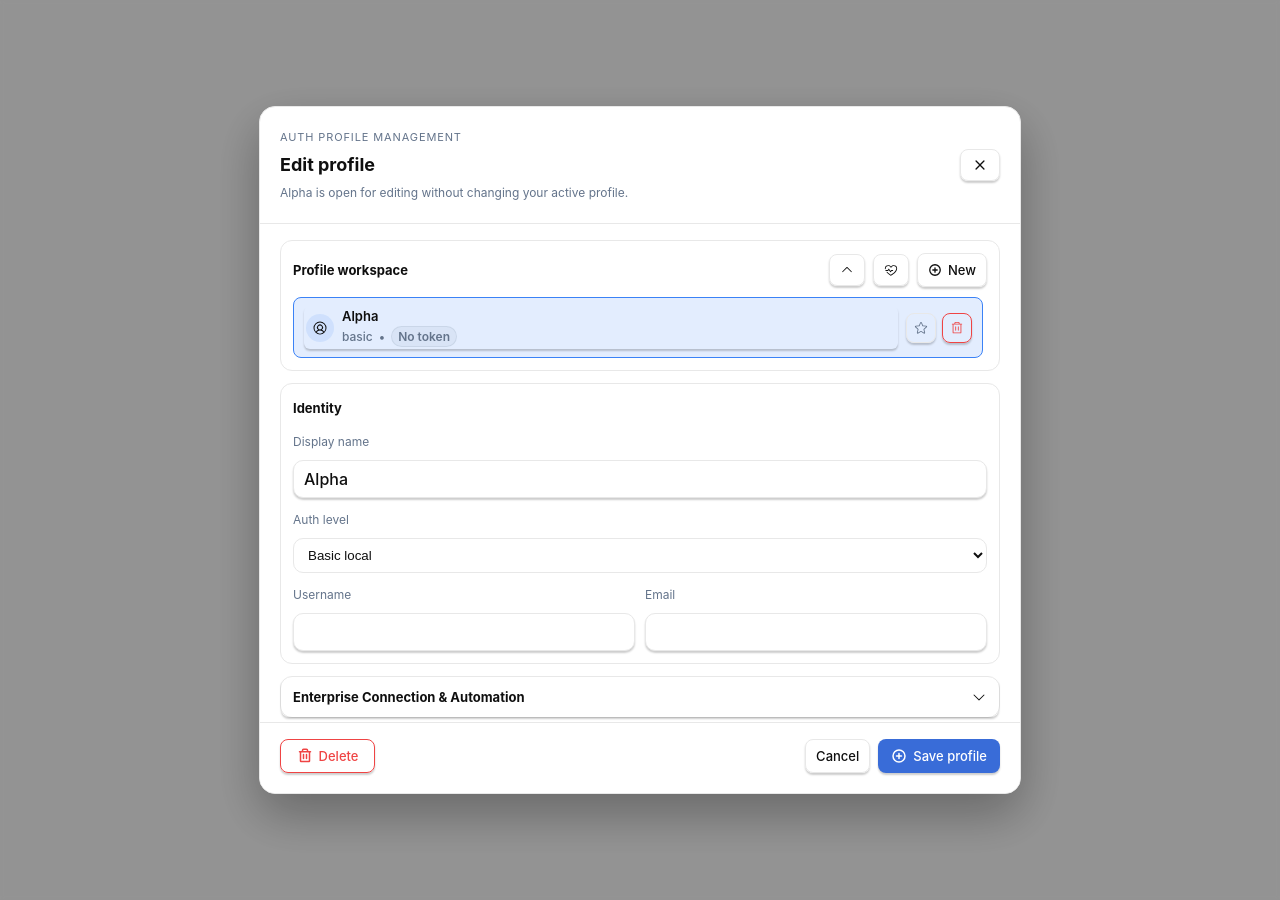
Scenario: ProfileManagementModal › clears the current selection and starts a blank draft when switching to create mode
Step 1. Click the button "New" → {"x": 952, "y": 270}, box [917, 253, 987, 287]
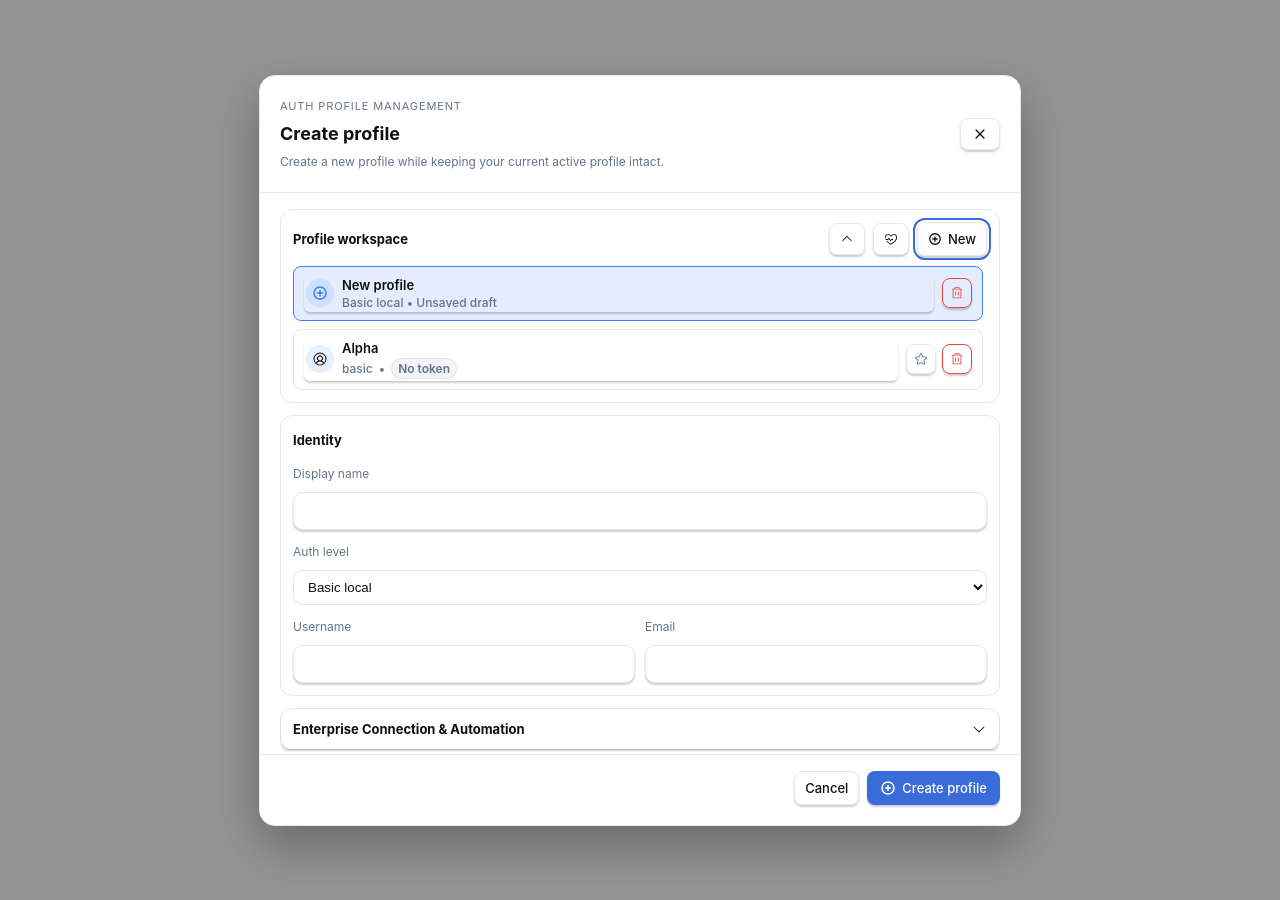
Check: the text "Basic local • Unsaved draft" is shown, box [342, 294, 497, 310]
Check: the button named "delete new profile draft" is shown, box [942, 278, 972, 308]
Check: the heading "Create profile" is shown, box [280, 122, 400, 144]
Step 2. Click the button titled "collapse profile workspace" → {"x": 847, "y": 238}, box [829, 222, 865, 254]
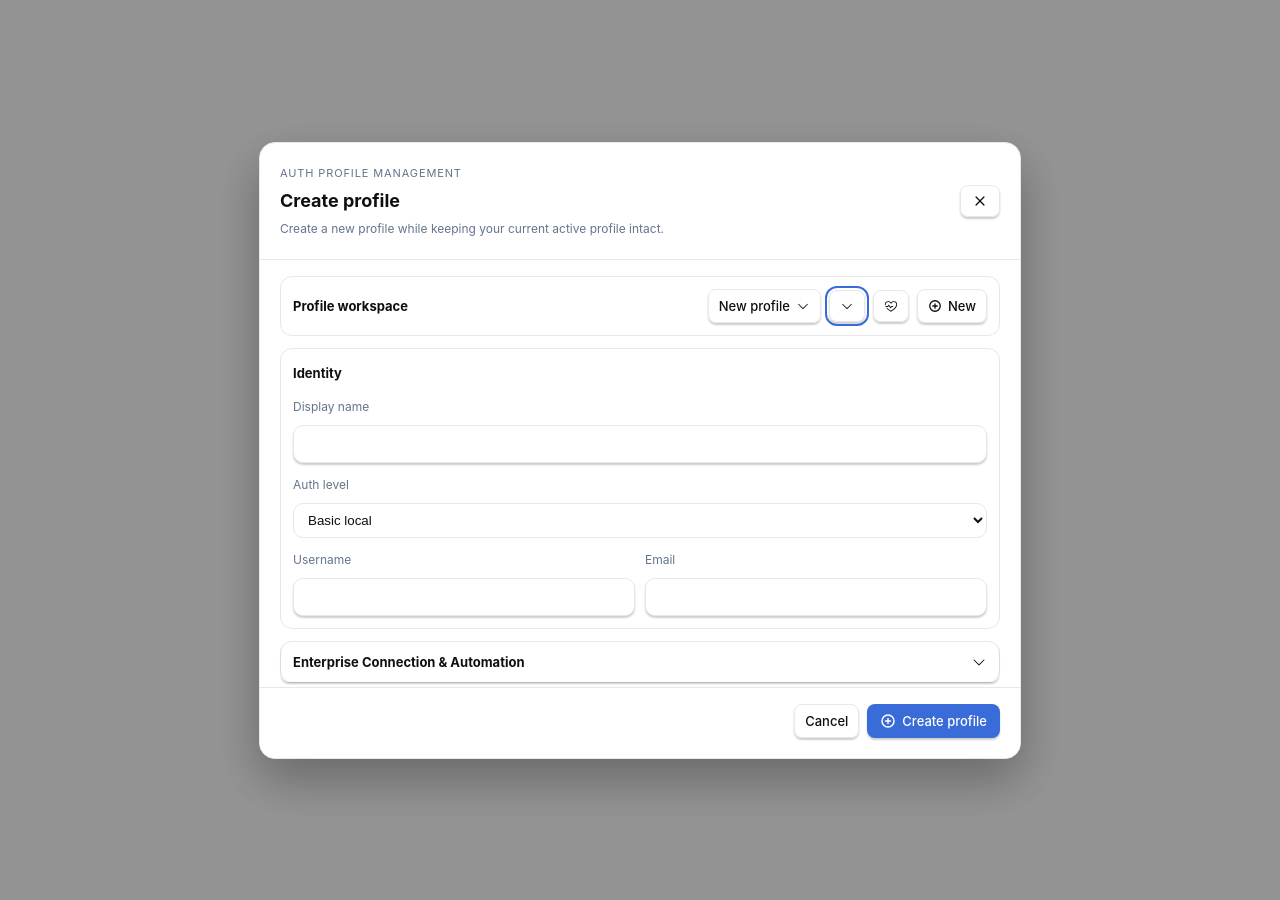
Step 3. Click the button "New profile" → {"x": 764, "y": 306}, box [708, 288, 821, 322]
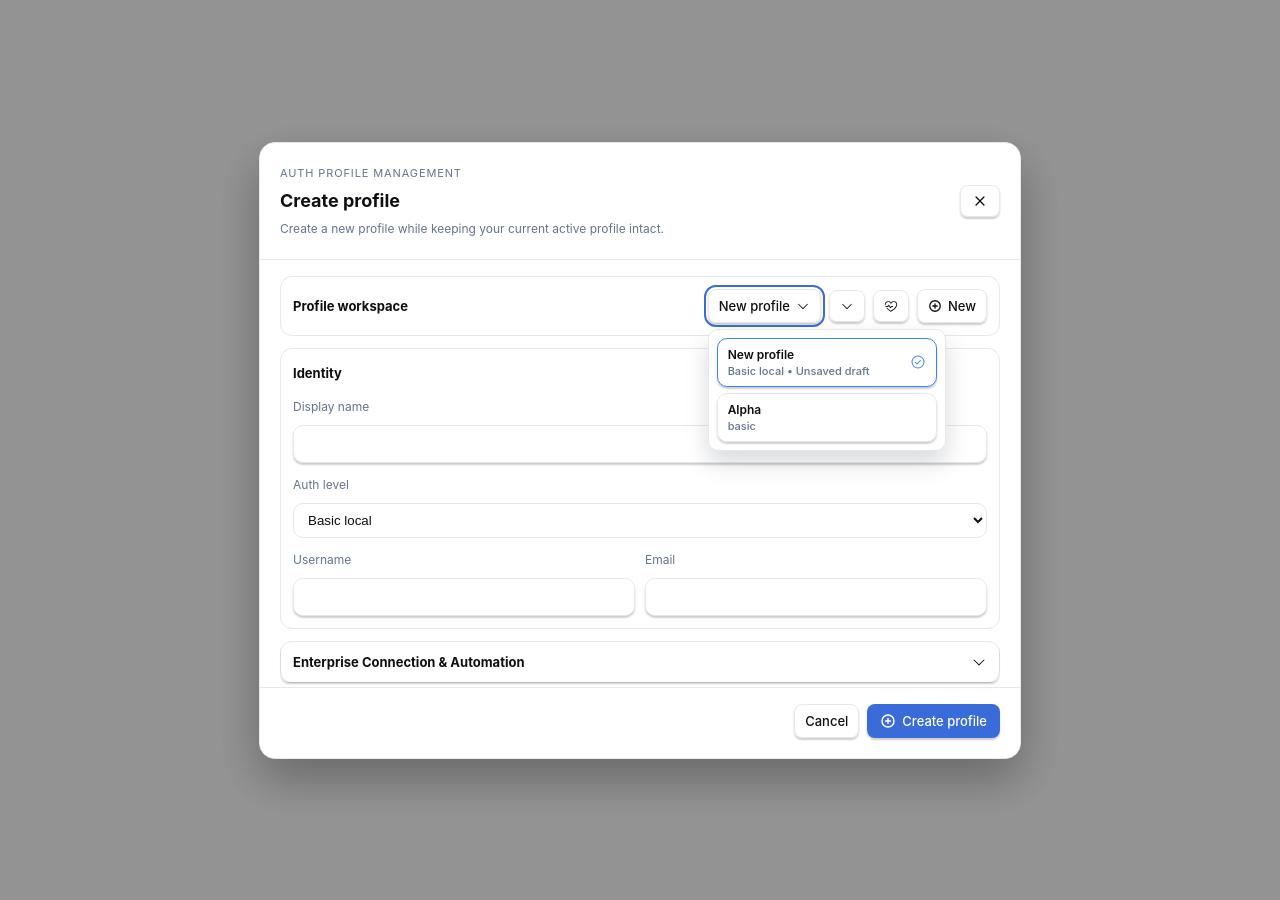
Check: the text "Basic local • Unsaved draft" is shown, box [728, 364, 870, 378]
